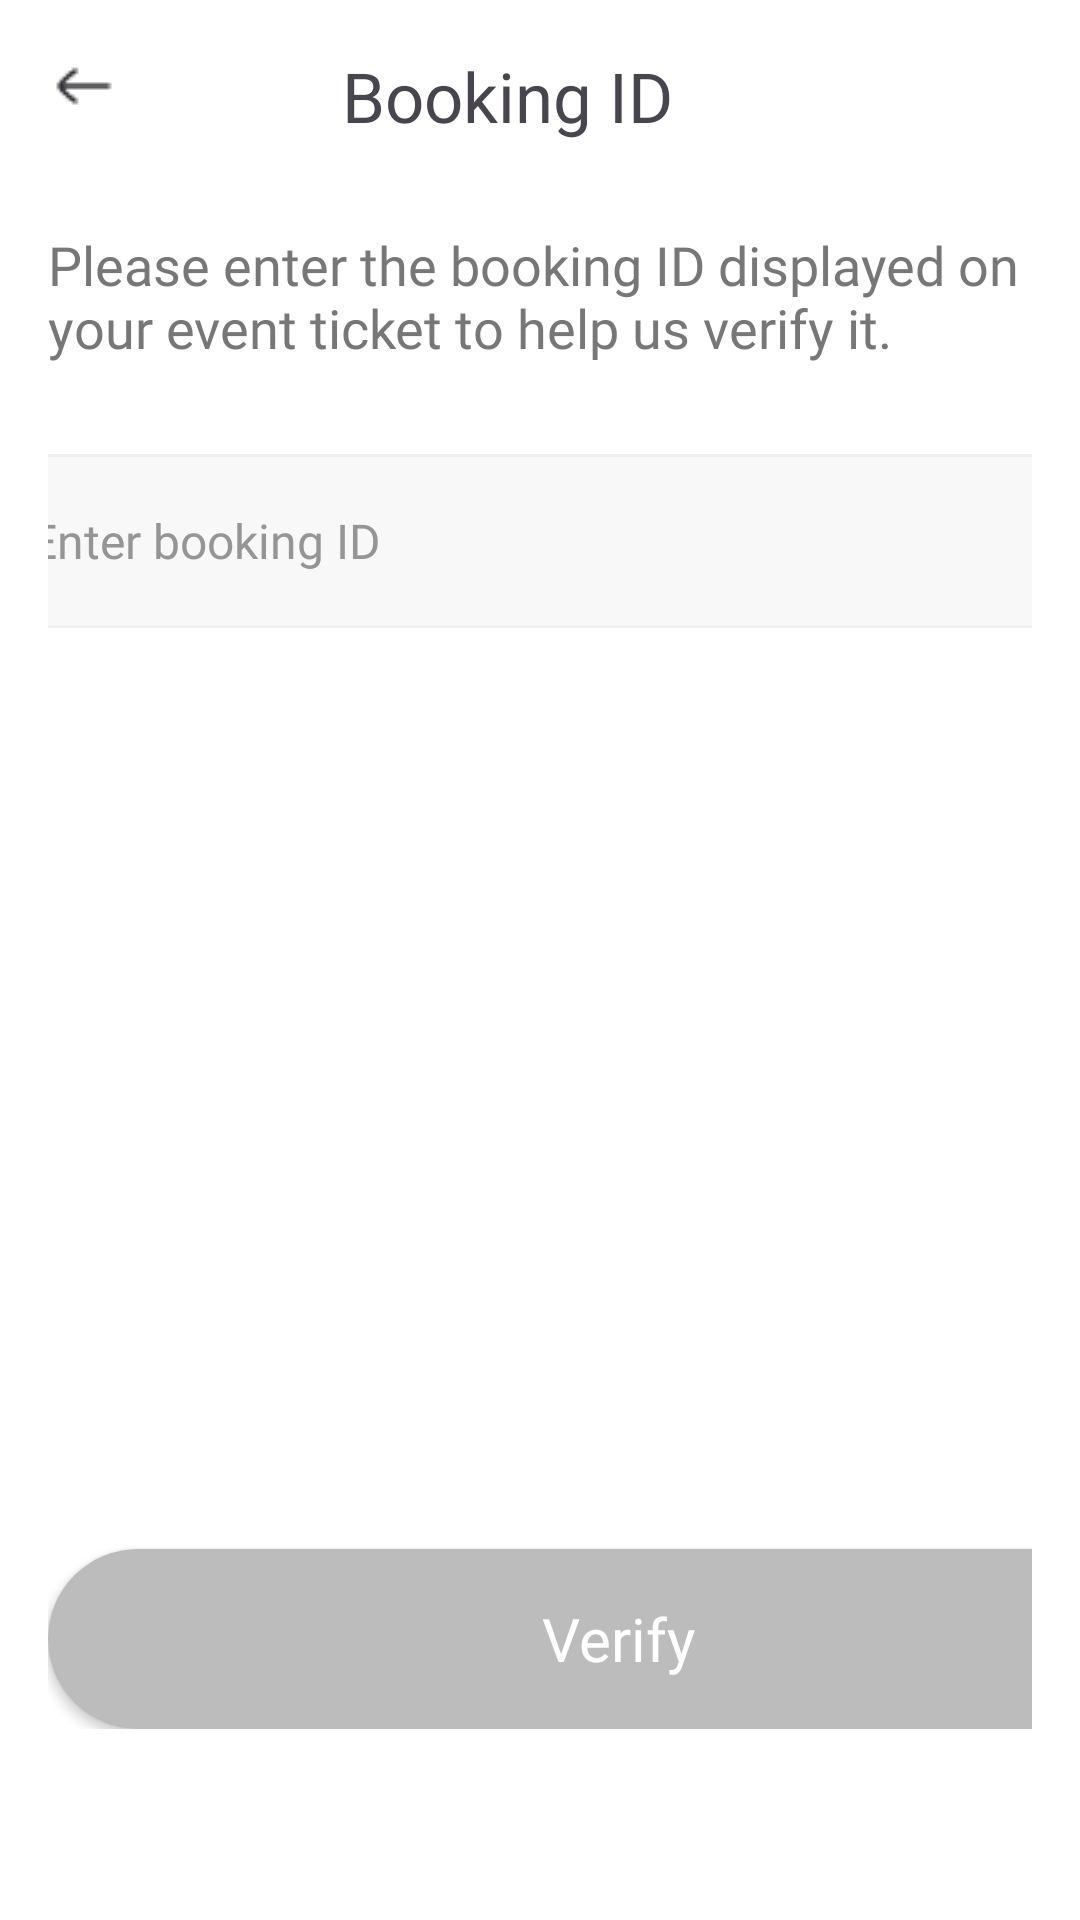

Icon click points for this 1080 × 1920 phone screenshot, format (x,y):
arrow left: (84,86)
